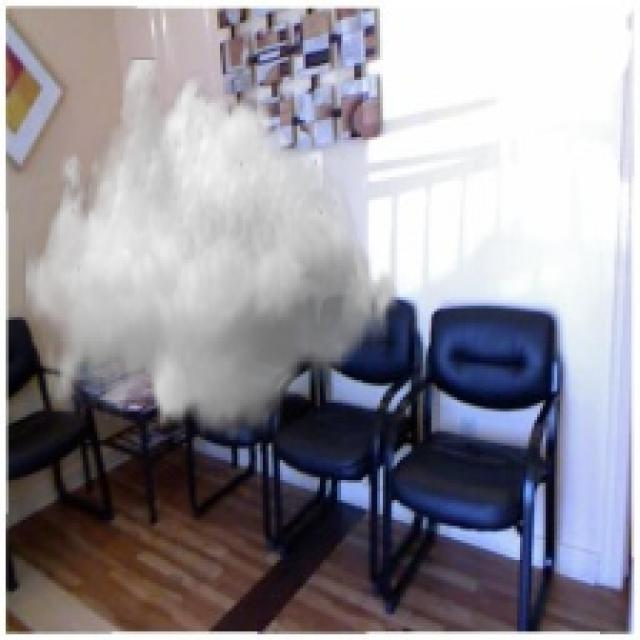smoke: (23, 57, 406, 440)
